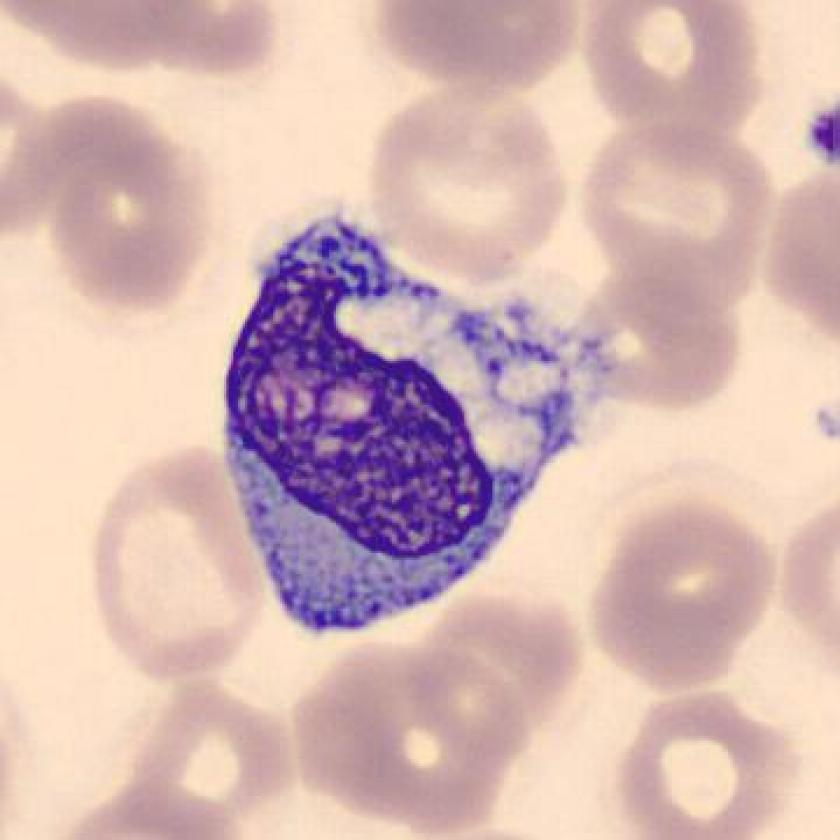monocyte: (202, 184, 638, 660)
